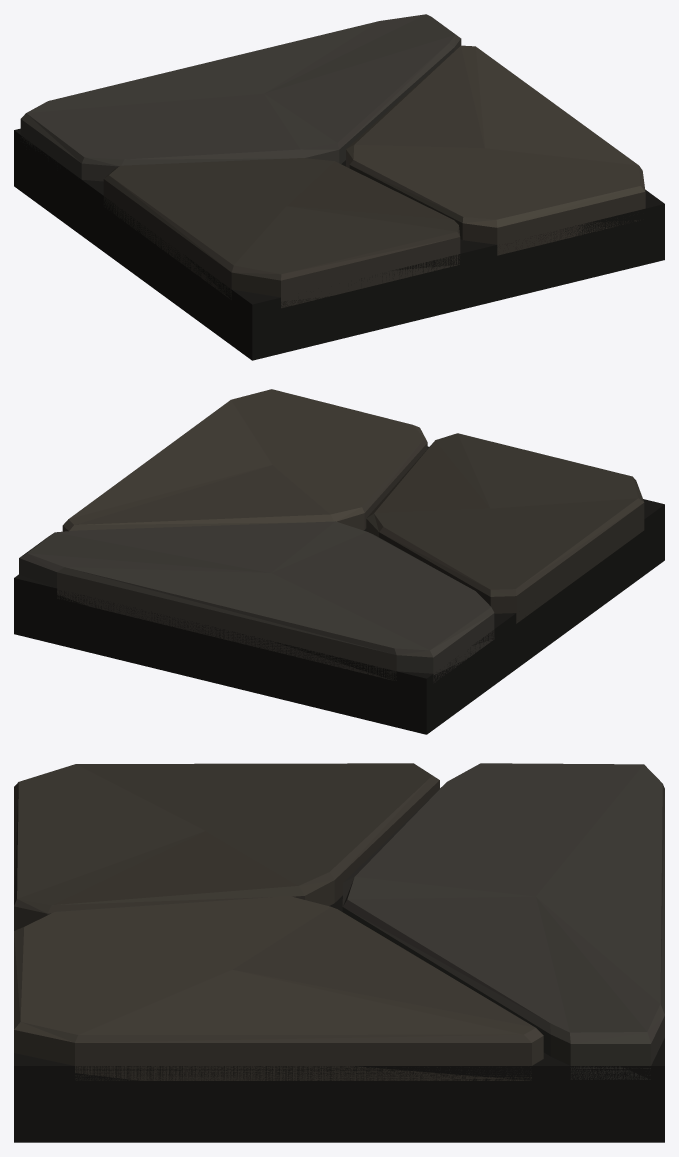
The model's file is Floor_1m_B.fbx.
The picture shows the model from 3 angles, top to bottom: view 1: azimuth 30°, elevation 25°; view 2: azimuth 150°, elevation 25°; view 3: azimuth 270°, elevation 25°; orthographic projection. The views are drawn at different scales.
Visible parts, largest first — view 1: Floor_1m_B; view 2: Floor_1m_B; view 3: Floor_1m_B.
Boxes of the visible parts, x1,y1,x2,y2 form: Floor_1m_B: [14, 14, 664, 360]; Floor_1m_B: [14, 389, 664, 734]; Floor_1m_B: [14, 763, 664, 1142].
Size of the model in its own units: 1 by 0.18 by 1.
1 material, 1 textured.
